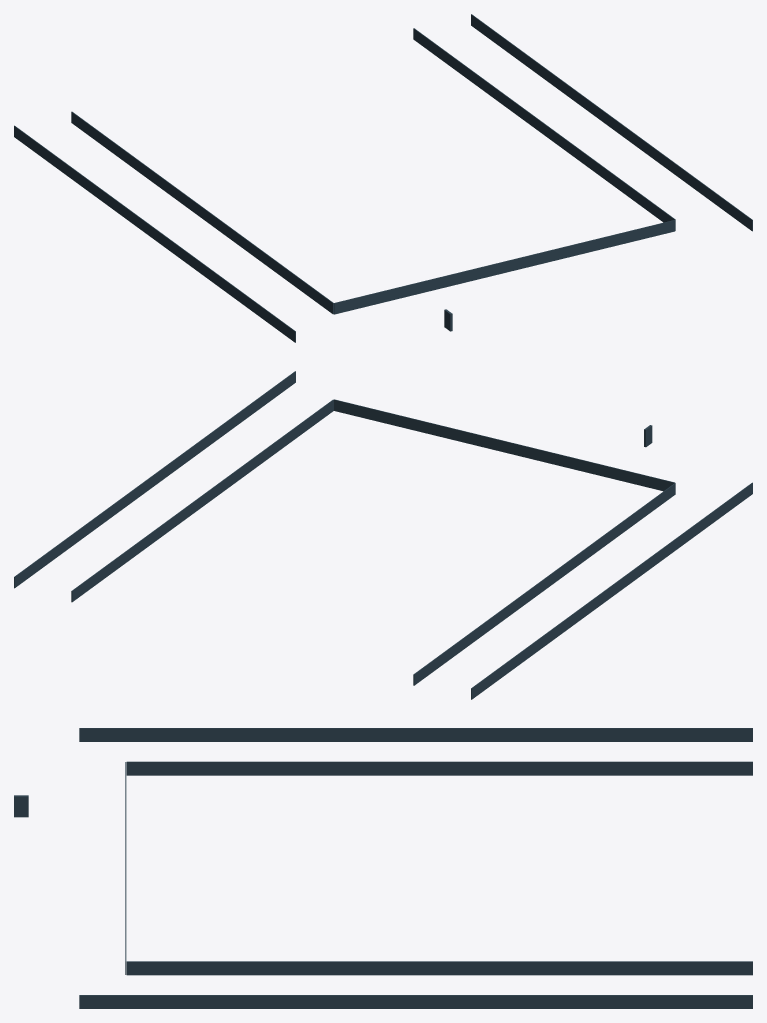
File: v02-00-05-steel.glb
3 views of the same model, one above another, from view 1: azimuth 30°, elevation 25°; view 2: azimuth 150°, elevation 25°; view 3: azimuth 270°, elevation 25° (orthographic). The views are drawn at different scales.
Visible parts, largest first — view 1: v02-00-05-steel; view 2: v02-00-05-steel; view 3: v02-00-05-steel.
Boxes of the visible parts, x1=… form: v02-00-05-steel: x1=14, y1=14, x2=752, y2=342; v02-00-05-steel: x1=14, y1=371, x2=752, y2=699; v02-00-05-steel: x1=14, y1=728, x2=752, y2=1008.
Bounding box in the file's own units: 46.98 × 1.7 × 54.85.
